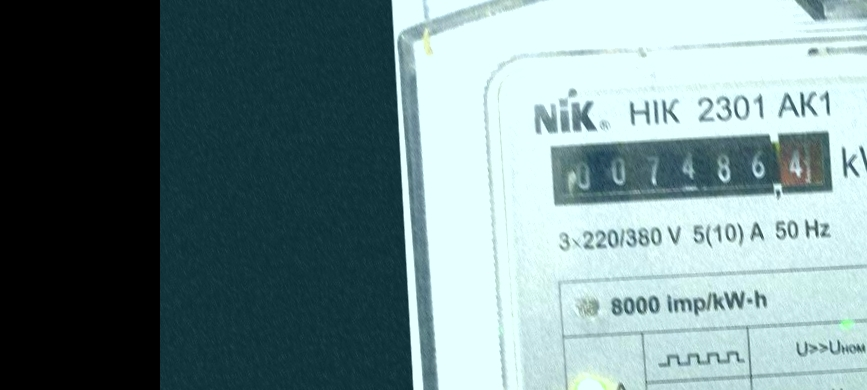0: (572, 156, 594, 191), (609, 152, 629, 186)
4: (678, 145, 698, 181), (786, 144, 805, 179)
6: (749, 146, 770, 179)
7: (641, 151, 666, 185)
8: (715, 149, 734, 185)
screen: (541, 117, 843, 218)
